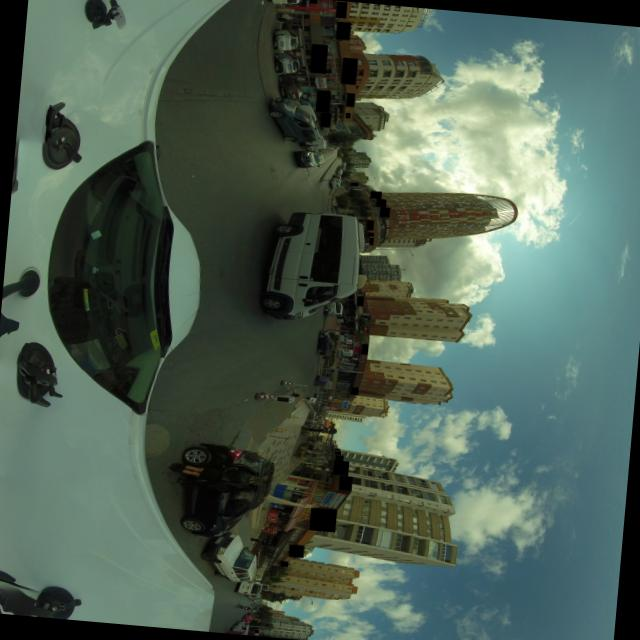SignStore: (308, 508, 335, 530), (310, 43, 324, 73), (341, 58, 354, 84), (316, 89, 328, 112), (335, 21, 348, 40), (333, 460, 347, 476), (287, 544, 303, 557), (337, 475, 350, 490), (335, 1, 345, 18), (319, 112, 329, 127), (345, 92, 354, 106), (369, 190, 380, 199), (379, 207, 388, 217), (375, 198, 384, 207), (360, 343, 366, 354), (349, 387, 357, 395), (356, 296, 362, 306), (366, 220, 372, 230), (279, 561, 287, 566), (334, 455, 342, 460), (368, 237, 372, 245), (349, 182, 357, 186), (344, 113, 349, 118), (334, 450, 339, 455), (308, 0, 316, 3), (367, 232, 372, 236), (253, 629, 257, 633), (333, 448, 339, 450)
